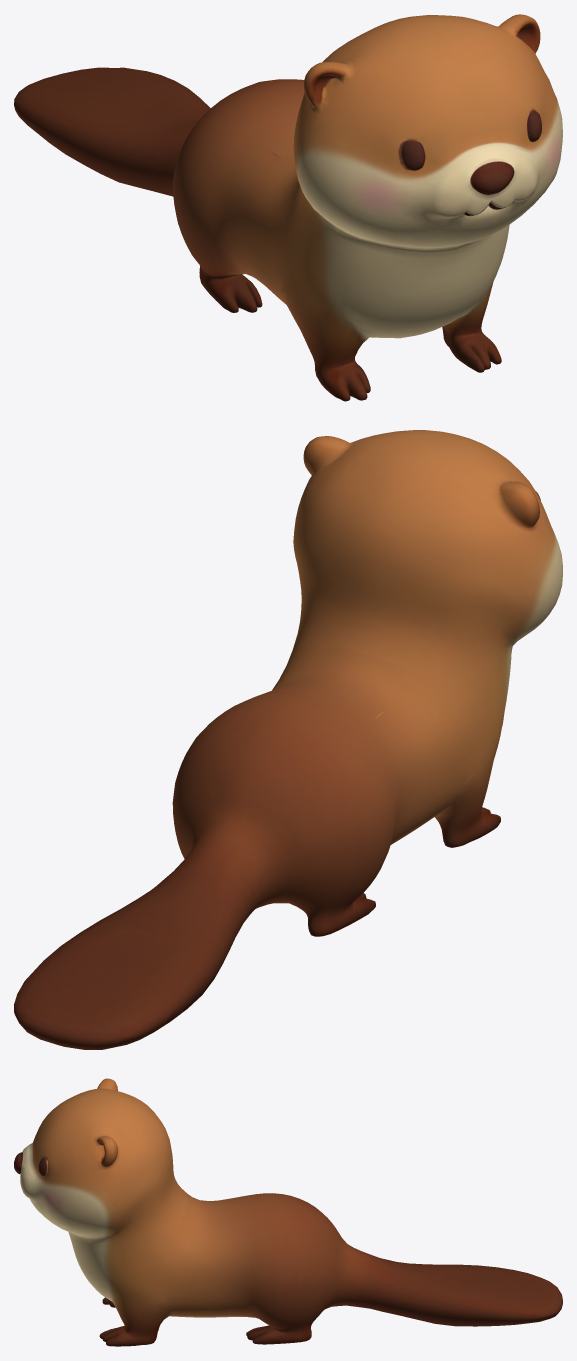
The model's file is tripo_convert_f742e5a6-e54c-4ad0-af67-eb897d9234ea.fbx.
3 renders of one model, top to bottom at view 1: azimuth 30°, elevation 25°; view 2: azimuth 150°, elevation 25°; view 3: azimuth 270°, elevation 25°, orthographic. The views are drawn at different scales.
Parts seen in each view (by area): view 1: tripo_node_f742e5a6; view 2: tripo_node_f742e5a6; view 3: tripo_node_f742e5a6.
Part boxes in pixels (box(x1,y1,x2,y2)): tripo_node_f742e5a6: box(14, 14, 562, 401); tripo_node_f742e5a6: box(14, 430, 562, 1049); tripo_node_f742e5a6: box(14, 1078, 562, 1346).
Bounding box in the file's own units: 0.3247 × 0.4497 × 0.9995.
1 material, 1 textured.
